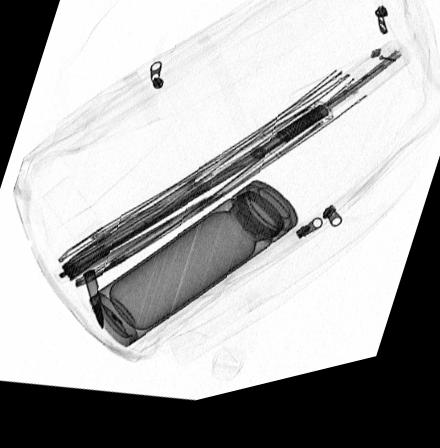Bullet: (82, 273, 104, 333)
